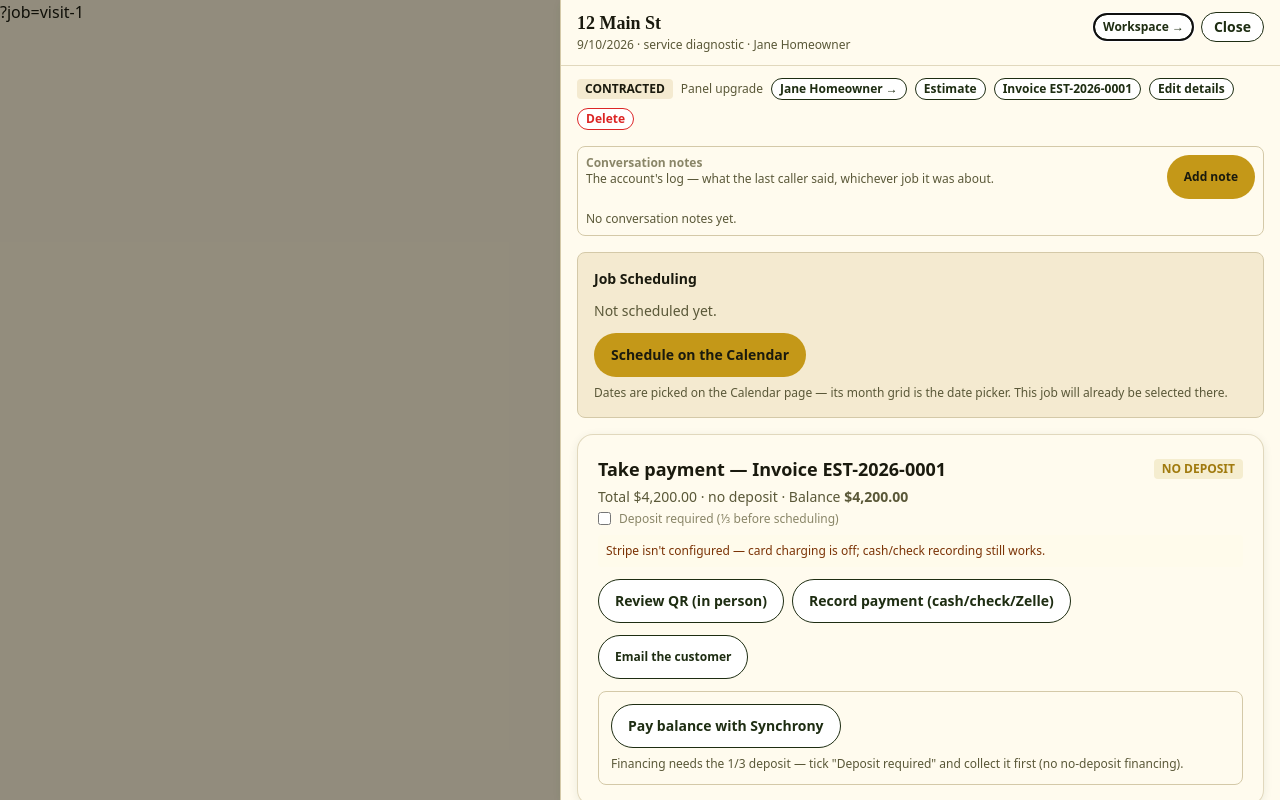
Test case: JobDrawer › PUNCHLIST K7: opens the invoice's estimate drawer from the job — the door the estimate drawer already had in reverse
Click the button "Estimate". click: [950, 88]
box: x1=915 y1=78 x2=986 y2=100
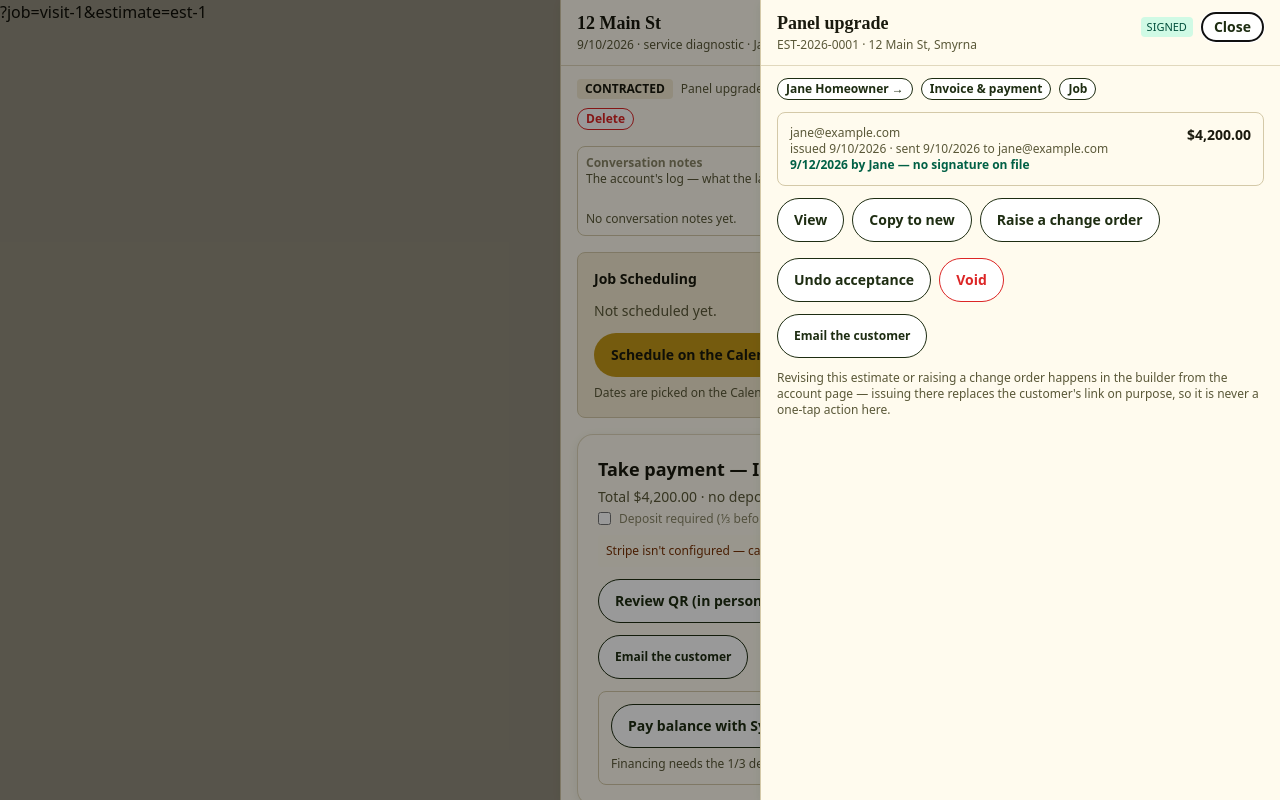
expect the text with test id "location" reads "?job=visit-1&estimate=est-1": met, box x1=0 y1=1 x2=207 y2=23
expect the dialog "Panel upgrade" is shown: met, box x1=760 y1=0 x2=1279 y2=799
